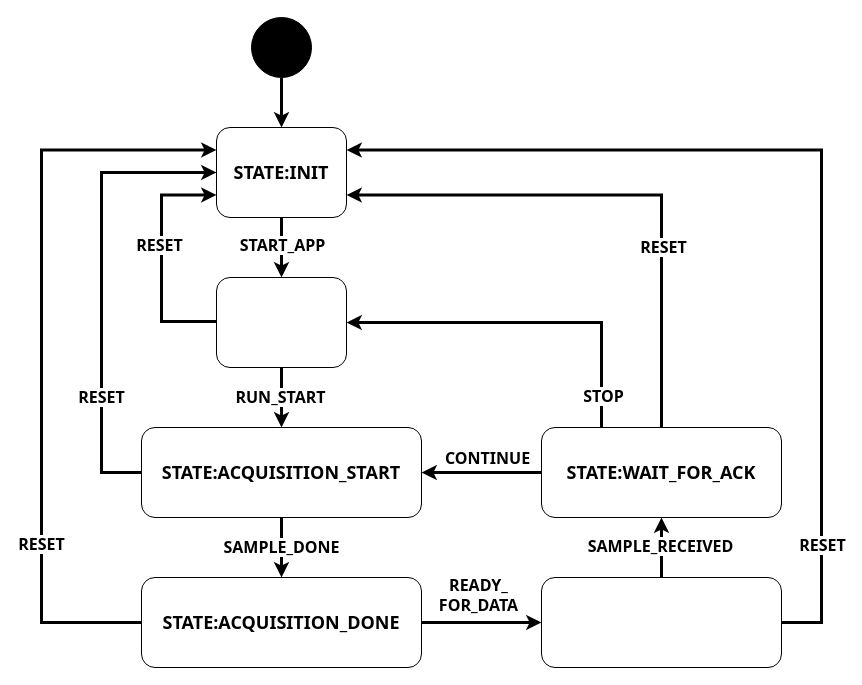
The diagram is 862 pixels wide and 685 high, and some of its shapes have lost their labels. The box of each missing label's shape, as (x1, y1, x2, y2) in pixels:
STATE:IDLE: (216, 276, 346, 368)
STATE:TRANSMISSION: (540, 576, 782, 668)
